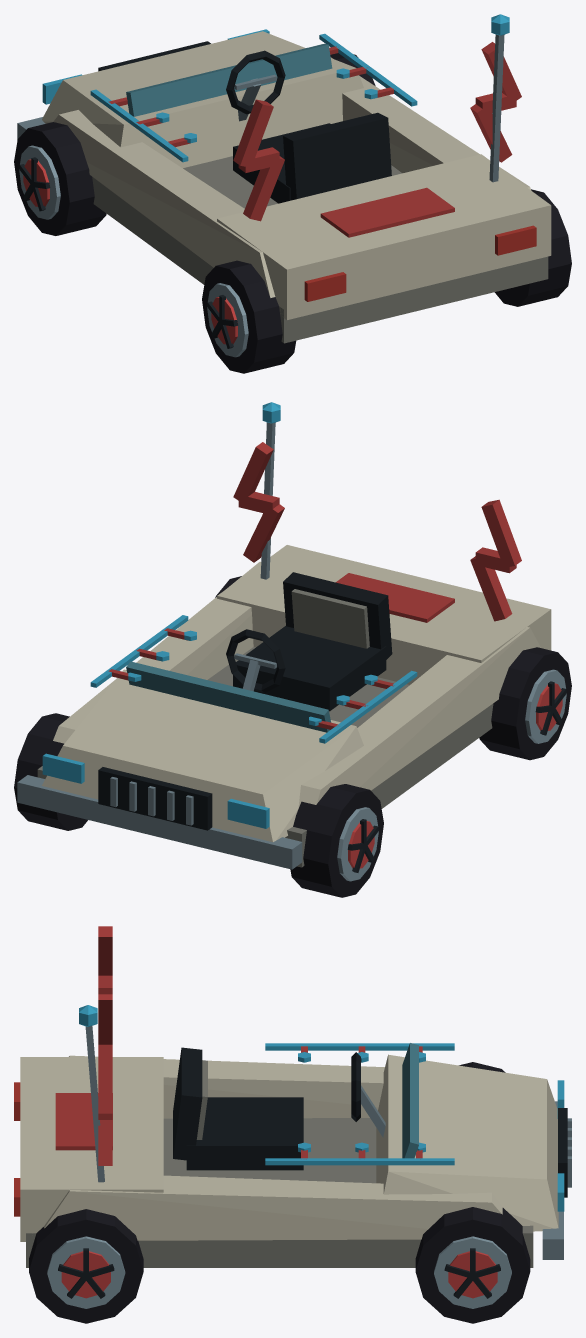
File: kart.glb
The picture shows the model from 3 angles, top to bottom: view 1: azimuth 30°, elevation 25°; view 2: azimuth 150°, elevation 25°; view 3: azimuth 270°, elevation 25°; orthographic projection. The views are drawn at different scales.
Visible parts, largest first — view 1: identity-sedan-sedan-road-car-body, identity-sedan-driver-cockpit, wheel-front-left, wheel-rear-left, identity-sedan-motif-electric, identity-sedan-motif-circuit, wheel-rear-right, identity-sedan-motif-antenna; view 2: identity-sedan-sedan-road-car-body, identity-sedan-driver-cockpit, wheel-front-left, wheel-rear-left, identity-sedan-motif-electric, identity-sedan-motif-circuit, wheel-front-right, identity-sedan-motif-antenna; view 3: identity-sedan-sedan-road-car-body, identity-sedan-driver-cockpit, wheel-front-right, wheel-rear-right, identity-sedan-motif-circuit, identity-sedan-motif-electric, identity-sedan-motif-antenna.
Boxes of the visible parts, x1,y1,x2,y2 form: identity-sedan-sedan-road-car-body: (17,29,551,343); identity-sedan-driver-cockpit: (226,50,391,203); wheel-front-left: (14,122,106,235); wheel-rear-left: (202,260,296,373); identity-sedan-motif-electric: (233,42,521,221); identity-sedan-motif-circuit: (90,33,417,162); wheel-rear-right: (494,189,571,306); identity-sedan-motif-antenna: (489,14,509,182); identity-sedan-sedan-road-car-body: (17,545,551,869); identity-sedan-driver-cockpit: (226,572,392,711); wheel-front-left: (290,784,383,897); wheel-rear-left: (479,647,571,760); identity-sedan-motif-electric: (233,442,521,621); identity-sedan-motif-circuit: (90,615,417,743); wheel-front-right: (14,713,87,830); identity-sedan-motif-antenna: (260,402,280,579); identity-sedan-sedan-road-car-body: (14,1043,571,1267); identity-sedan-driver-cockpit: (173,1047,385,1170); wheel-front-right: (415,1207,530,1323); wheel-rear-right: (29,1209,143,1323); identity-sedan-motif-circuit: (265,1043,454,1165); identity-sedan-motif-electric: (98,926,112,1165); identity-sedan-motif-antenna: (79,1005,104,1182).
Bounding box in the file's own units: 2.07 × 1.72 × 2.92.
